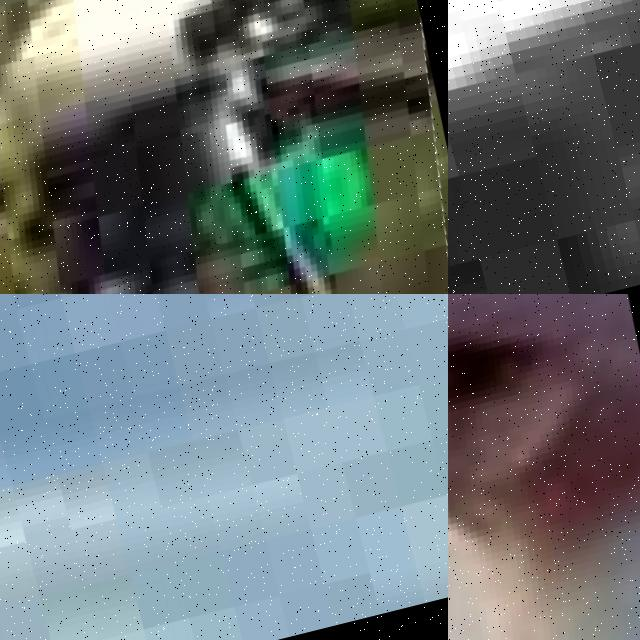drone: (0, 0, 448, 294), (448, 294, 640, 640)
